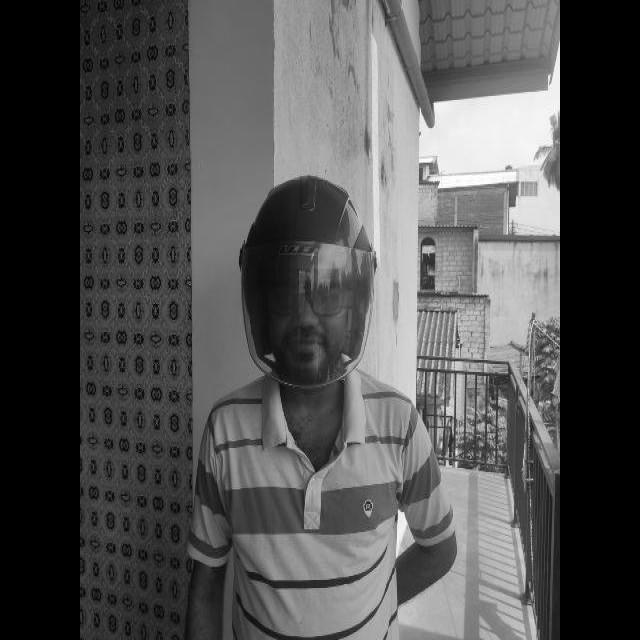5_casco: (240, 174, 376, 390)
